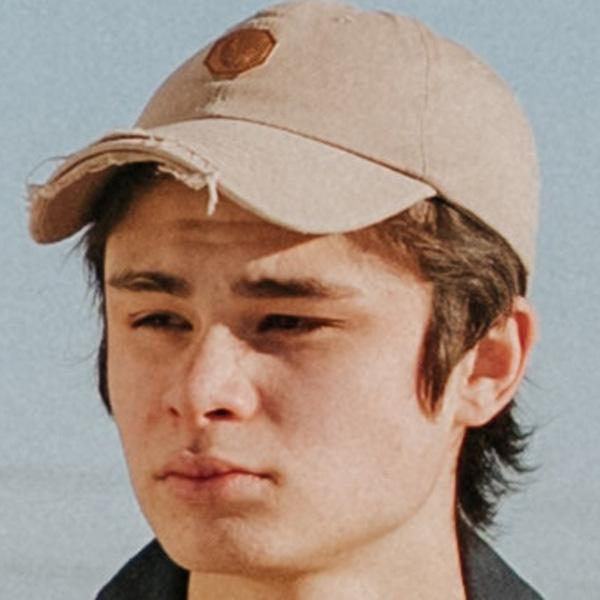Eyes: (243, 301, 343, 344), (122, 297, 199, 342)
